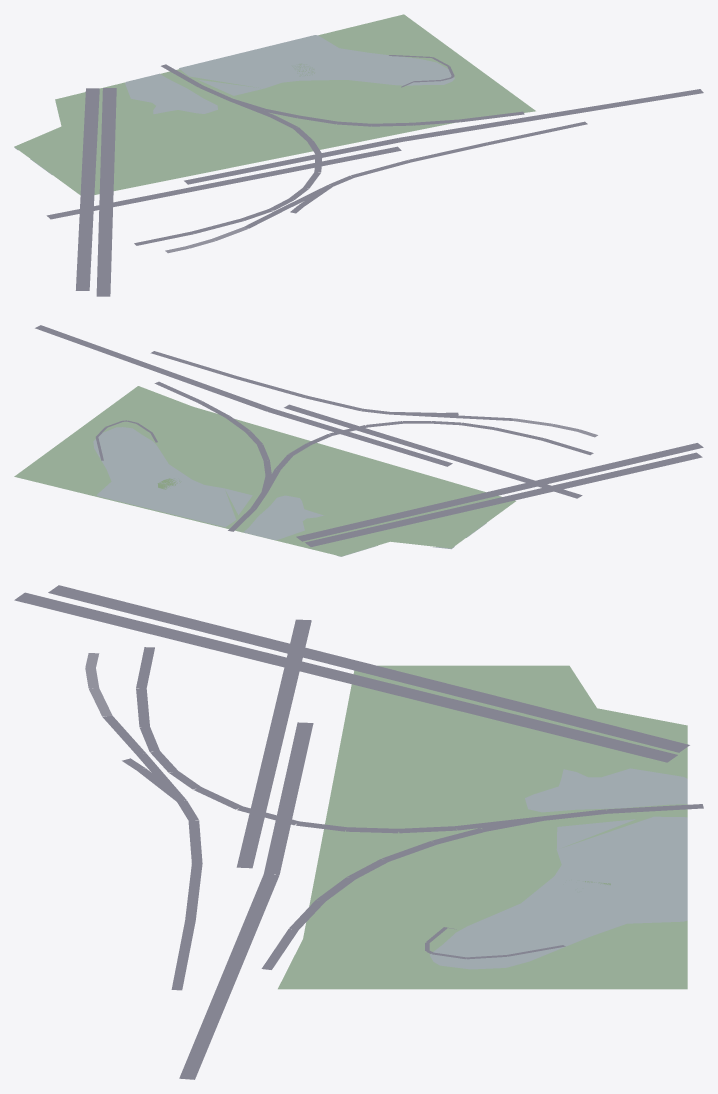
Rendered from 134_81_mid.glb.
3 renders of one model, top to bottom at view 1: azimuth 30°, elevation 25°; view 2: azimuth 150°, elevation 25°; view 3: azimuth 270°, elevation 25°, orthographic. The views are drawn at different scales.
Size of the model in its own units: 781 by 10.21 by 451.
